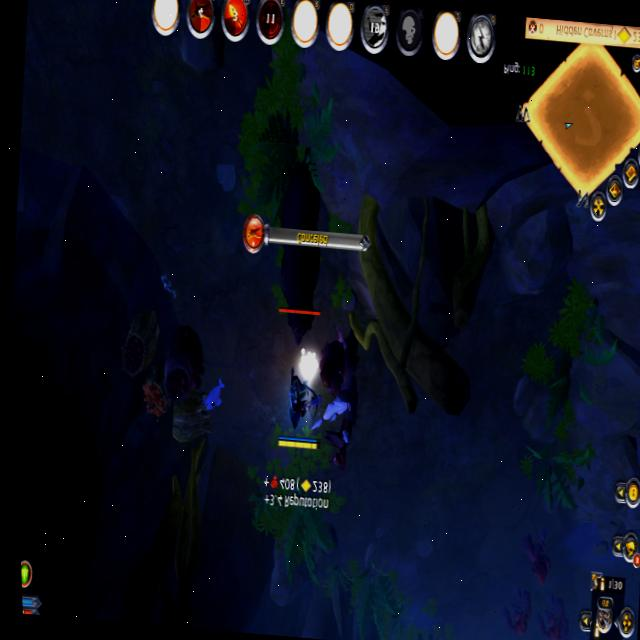ore: (261, 156, 336, 344), (516, 521, 556, 578), (532, 584, 571, 640), (497, 589, 535, 640), (552, 632, 582, 640)
red: (268, 359, 331, 460)
stone: (292, 340, 327, 384)
